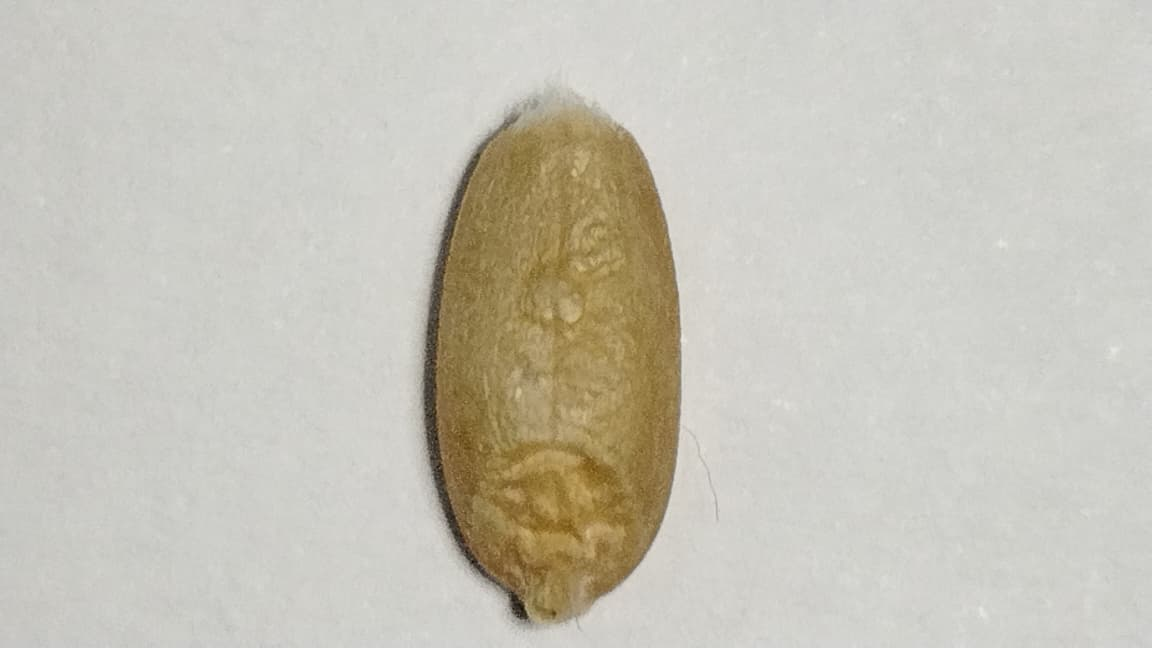healthy: (436, 110, 679, 632)
